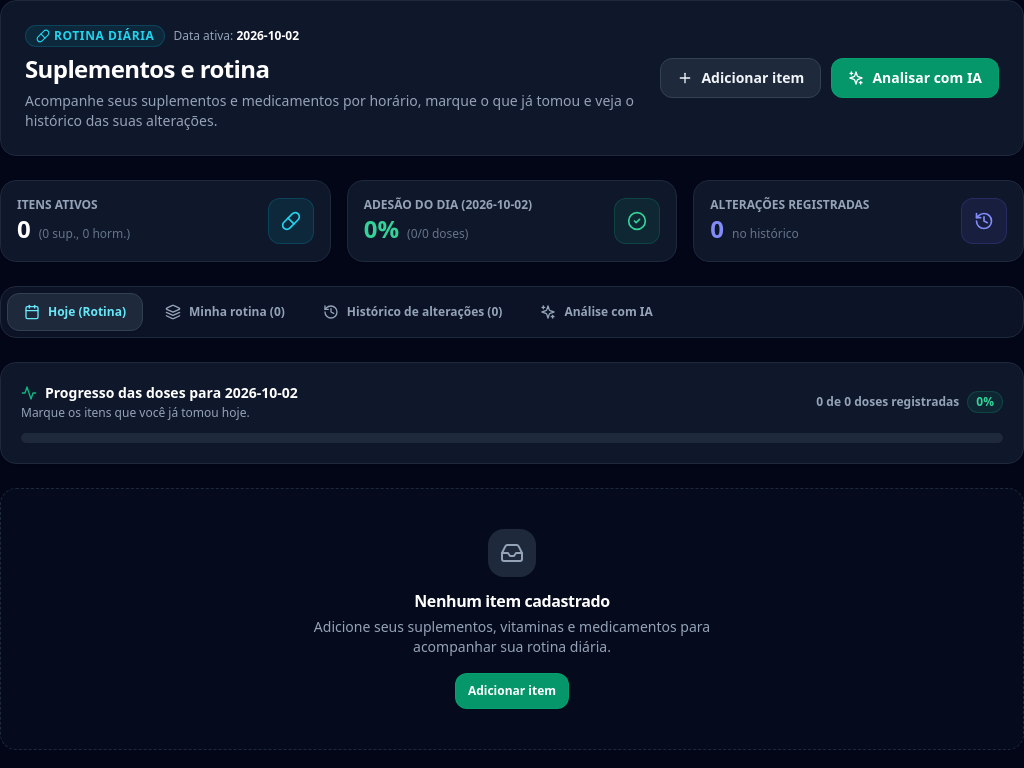
Test: SupplementsView (UX-P1-19) › switches to Análise com IA tab and runs AI evaluation
The image size is (1024, 768).
Click the button "Análise com IA": x=597, y=312 [524,294,669,330]
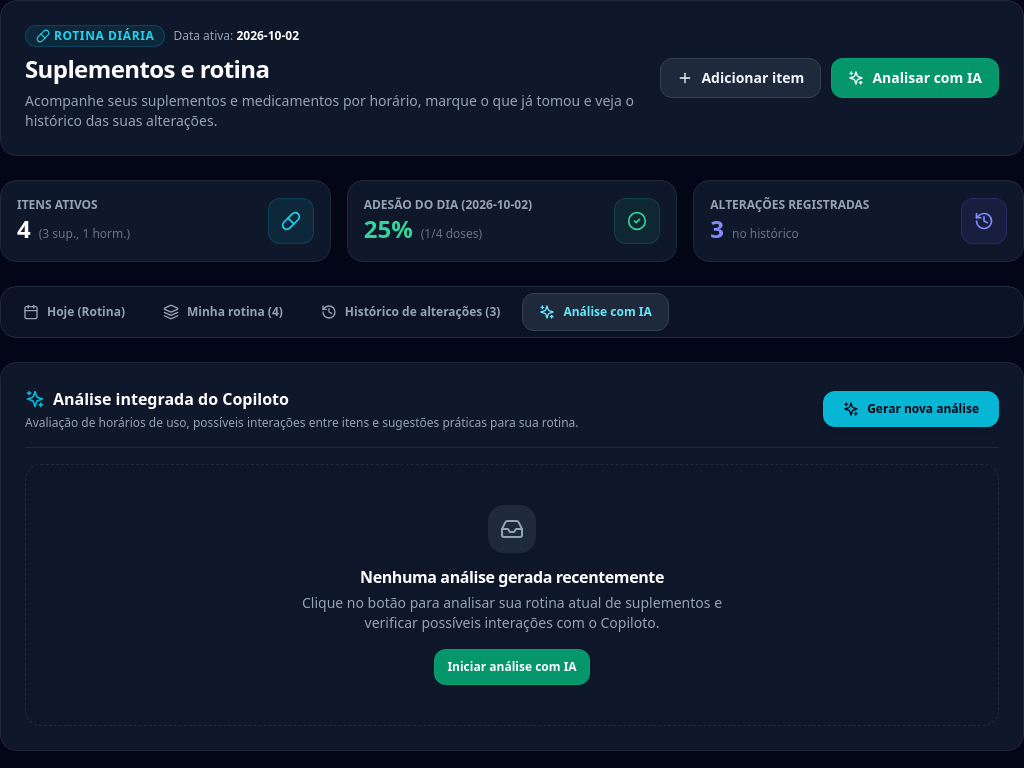
Now the heading "Análise integrada do Copiloto" is shown, box [25,388,289,410]
Note: Trigger AI analysis
Click the button "Gerar nova análise": x=911, y=409 [823,391,999,427]
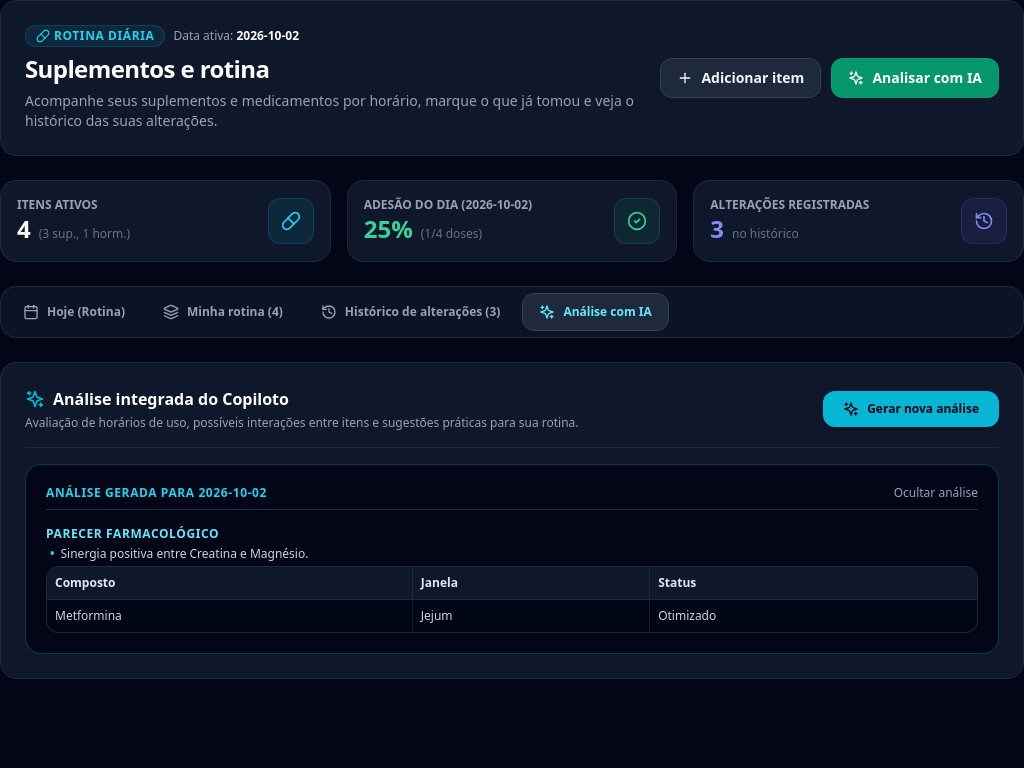
Now the heading "Parecer Farmacológico" is shown, box [46,525,219,542]
Now the text "Sinergia positiva entre Creatina e Magnésio." is shown, box [60,546,308,562]
